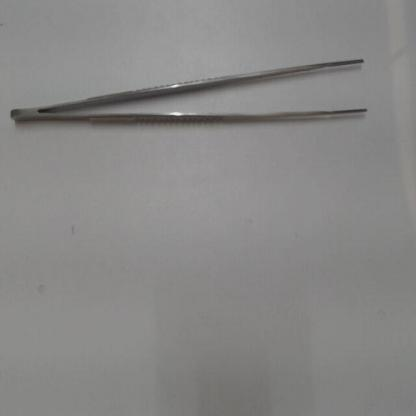DeBakey Dissector: (6, 44, 381, 148)
